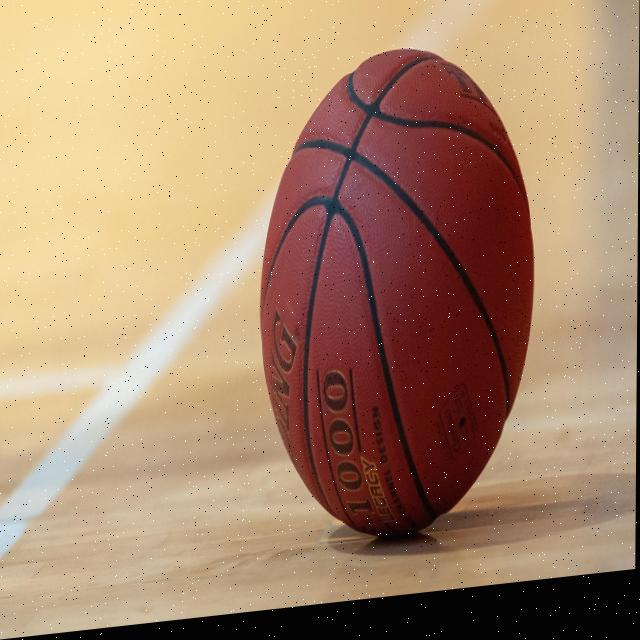Basketball: (258, 34, 535, 556)
